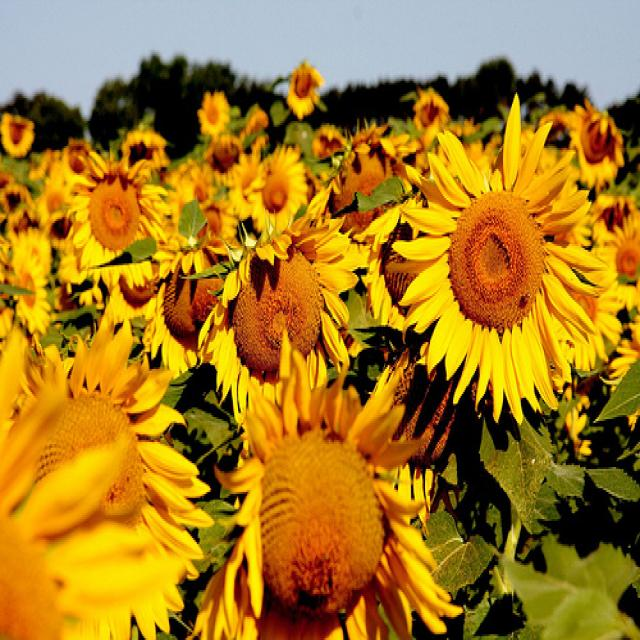sunflower: (224, 380, 451, 640), (406, 114, 598, 411), (1, 320, 168, 640), (210, 202, 352, 412), (64, 162, 162, 270), (145, 251, 228, 377), (327, 131, 422, 227), (591, 190, 640, 328), (243, 146, 310, 242), (576, 97, 626, 188), (286, 63, 324, 114), (0, 110, 34, 155), (198, 91, 228, 132)
